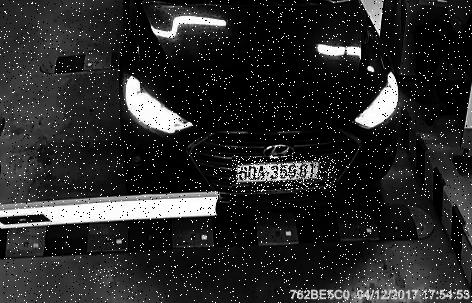License-plate: (234, 158, 339, 194)
